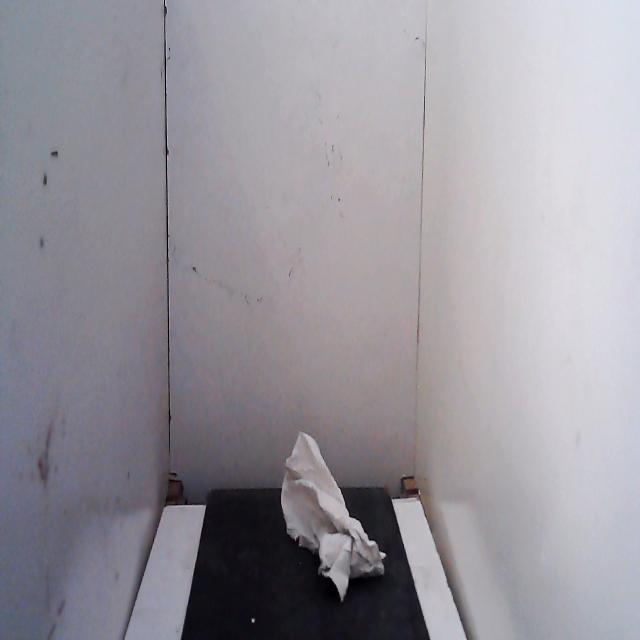paper: (264, 408, 397, 630)
